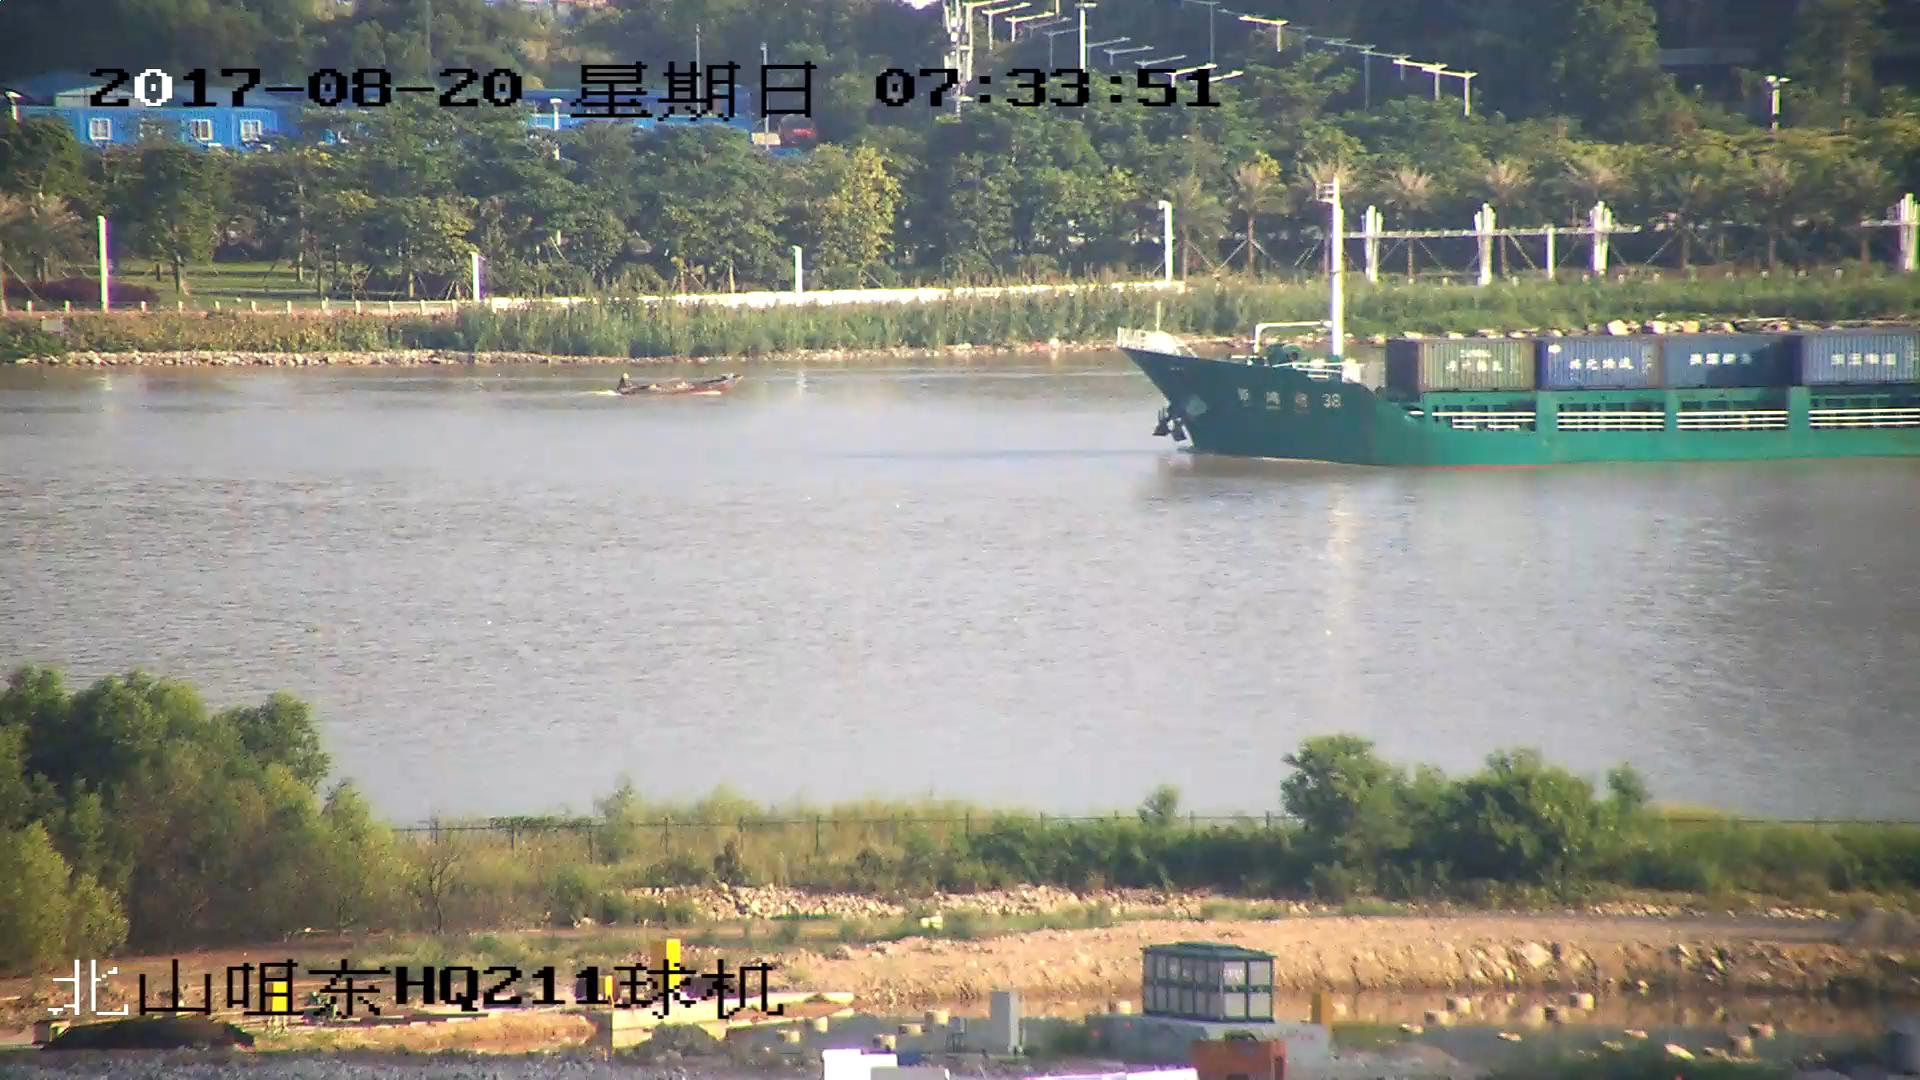fishing boat: (613, 367, 741, 401)
general cargo ship: (1117, 185, 1920, 464)
